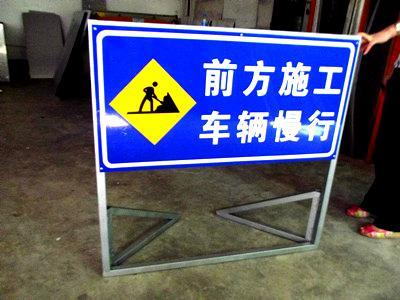sign: (95, 29, 358, 166)
